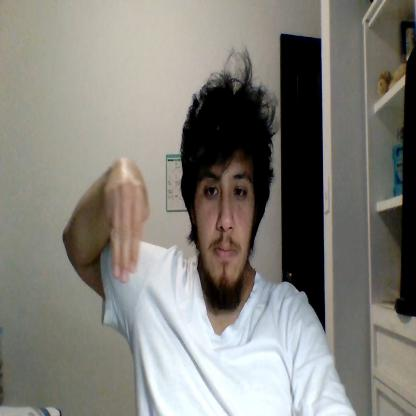M: (106, 158, 150, 283)
